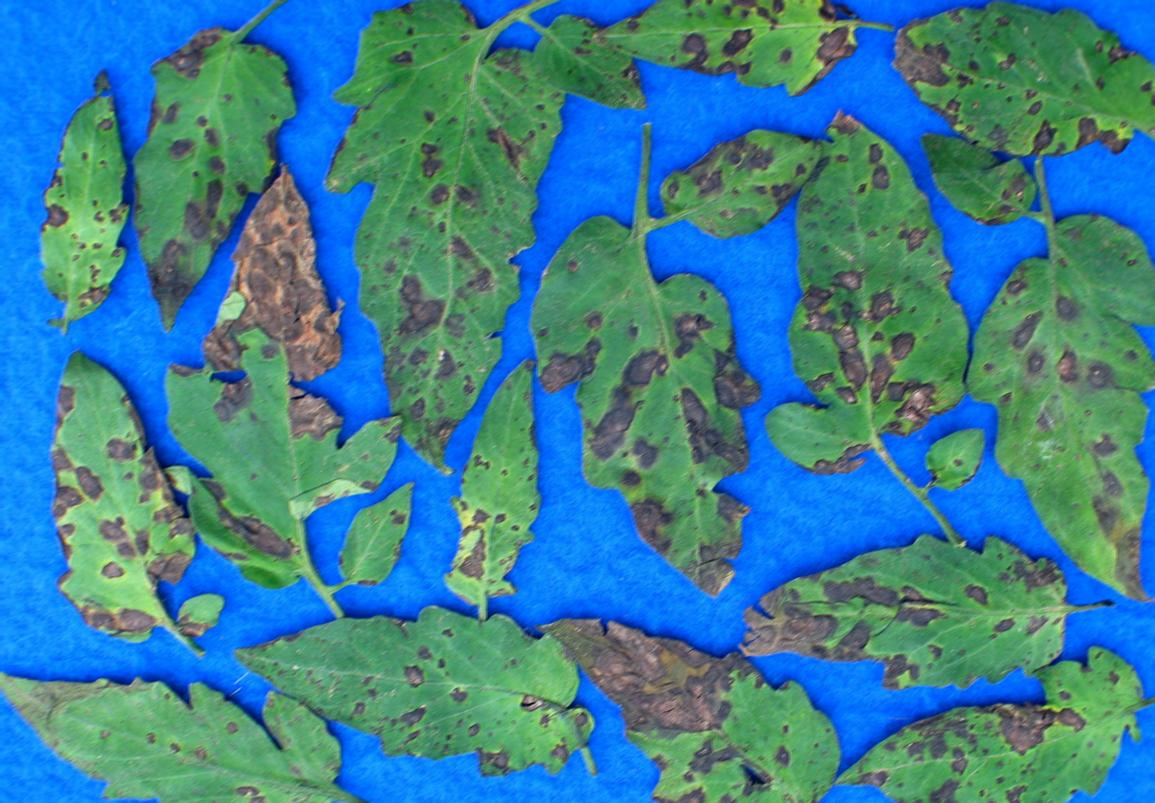Tomato Early blight leaf: (336, 0, 581, 506), (536, 210, 756, 592), (978, 205, 1155, 609), (766, 98, 959, 466), (532, 615, 842, 803), (129, 5, 296, 329), (726, 533, 1069, 688), (251, 612, 602, 755), (0, 662, 354, 803), (52, 345, 194, 668), (891, 6, 1155, 176), (841, 658, 1149, 803), (34, 32, 145, 333), (436, 358, 542, 615), (591, 0, 891, 90), (318, 468, 424, 603), (928, 136, 1034, 232)
